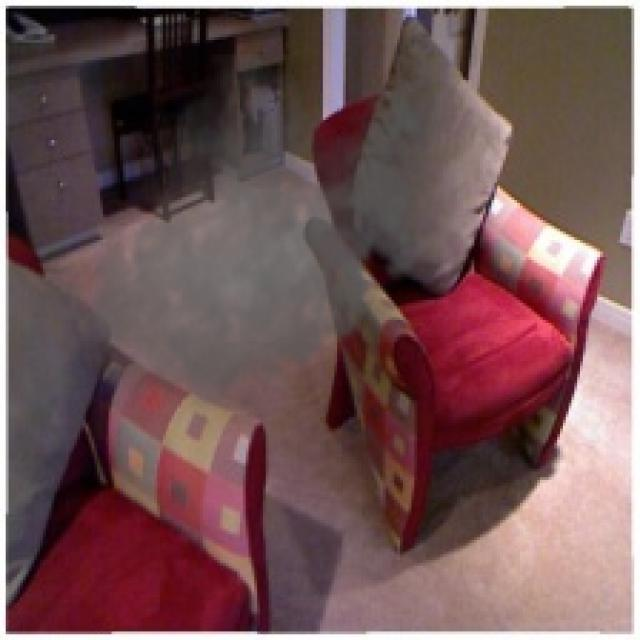Smoke: (83, 54, 440, 423)
